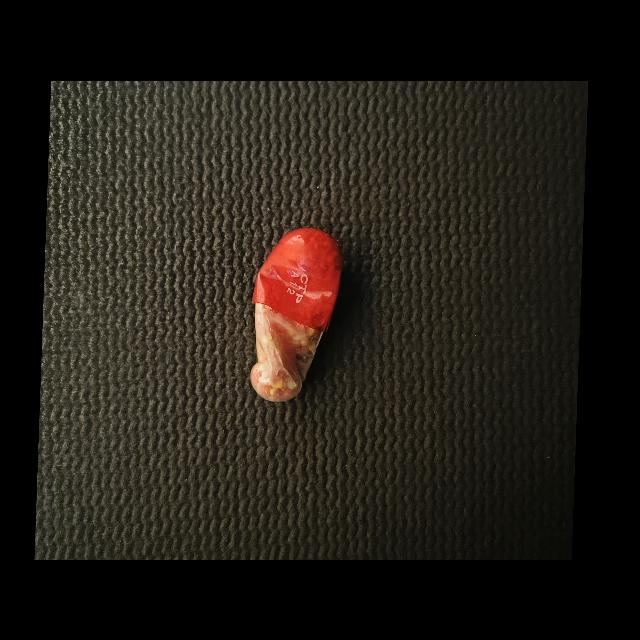Defective Capsule: (250, 227, 343, 402)
